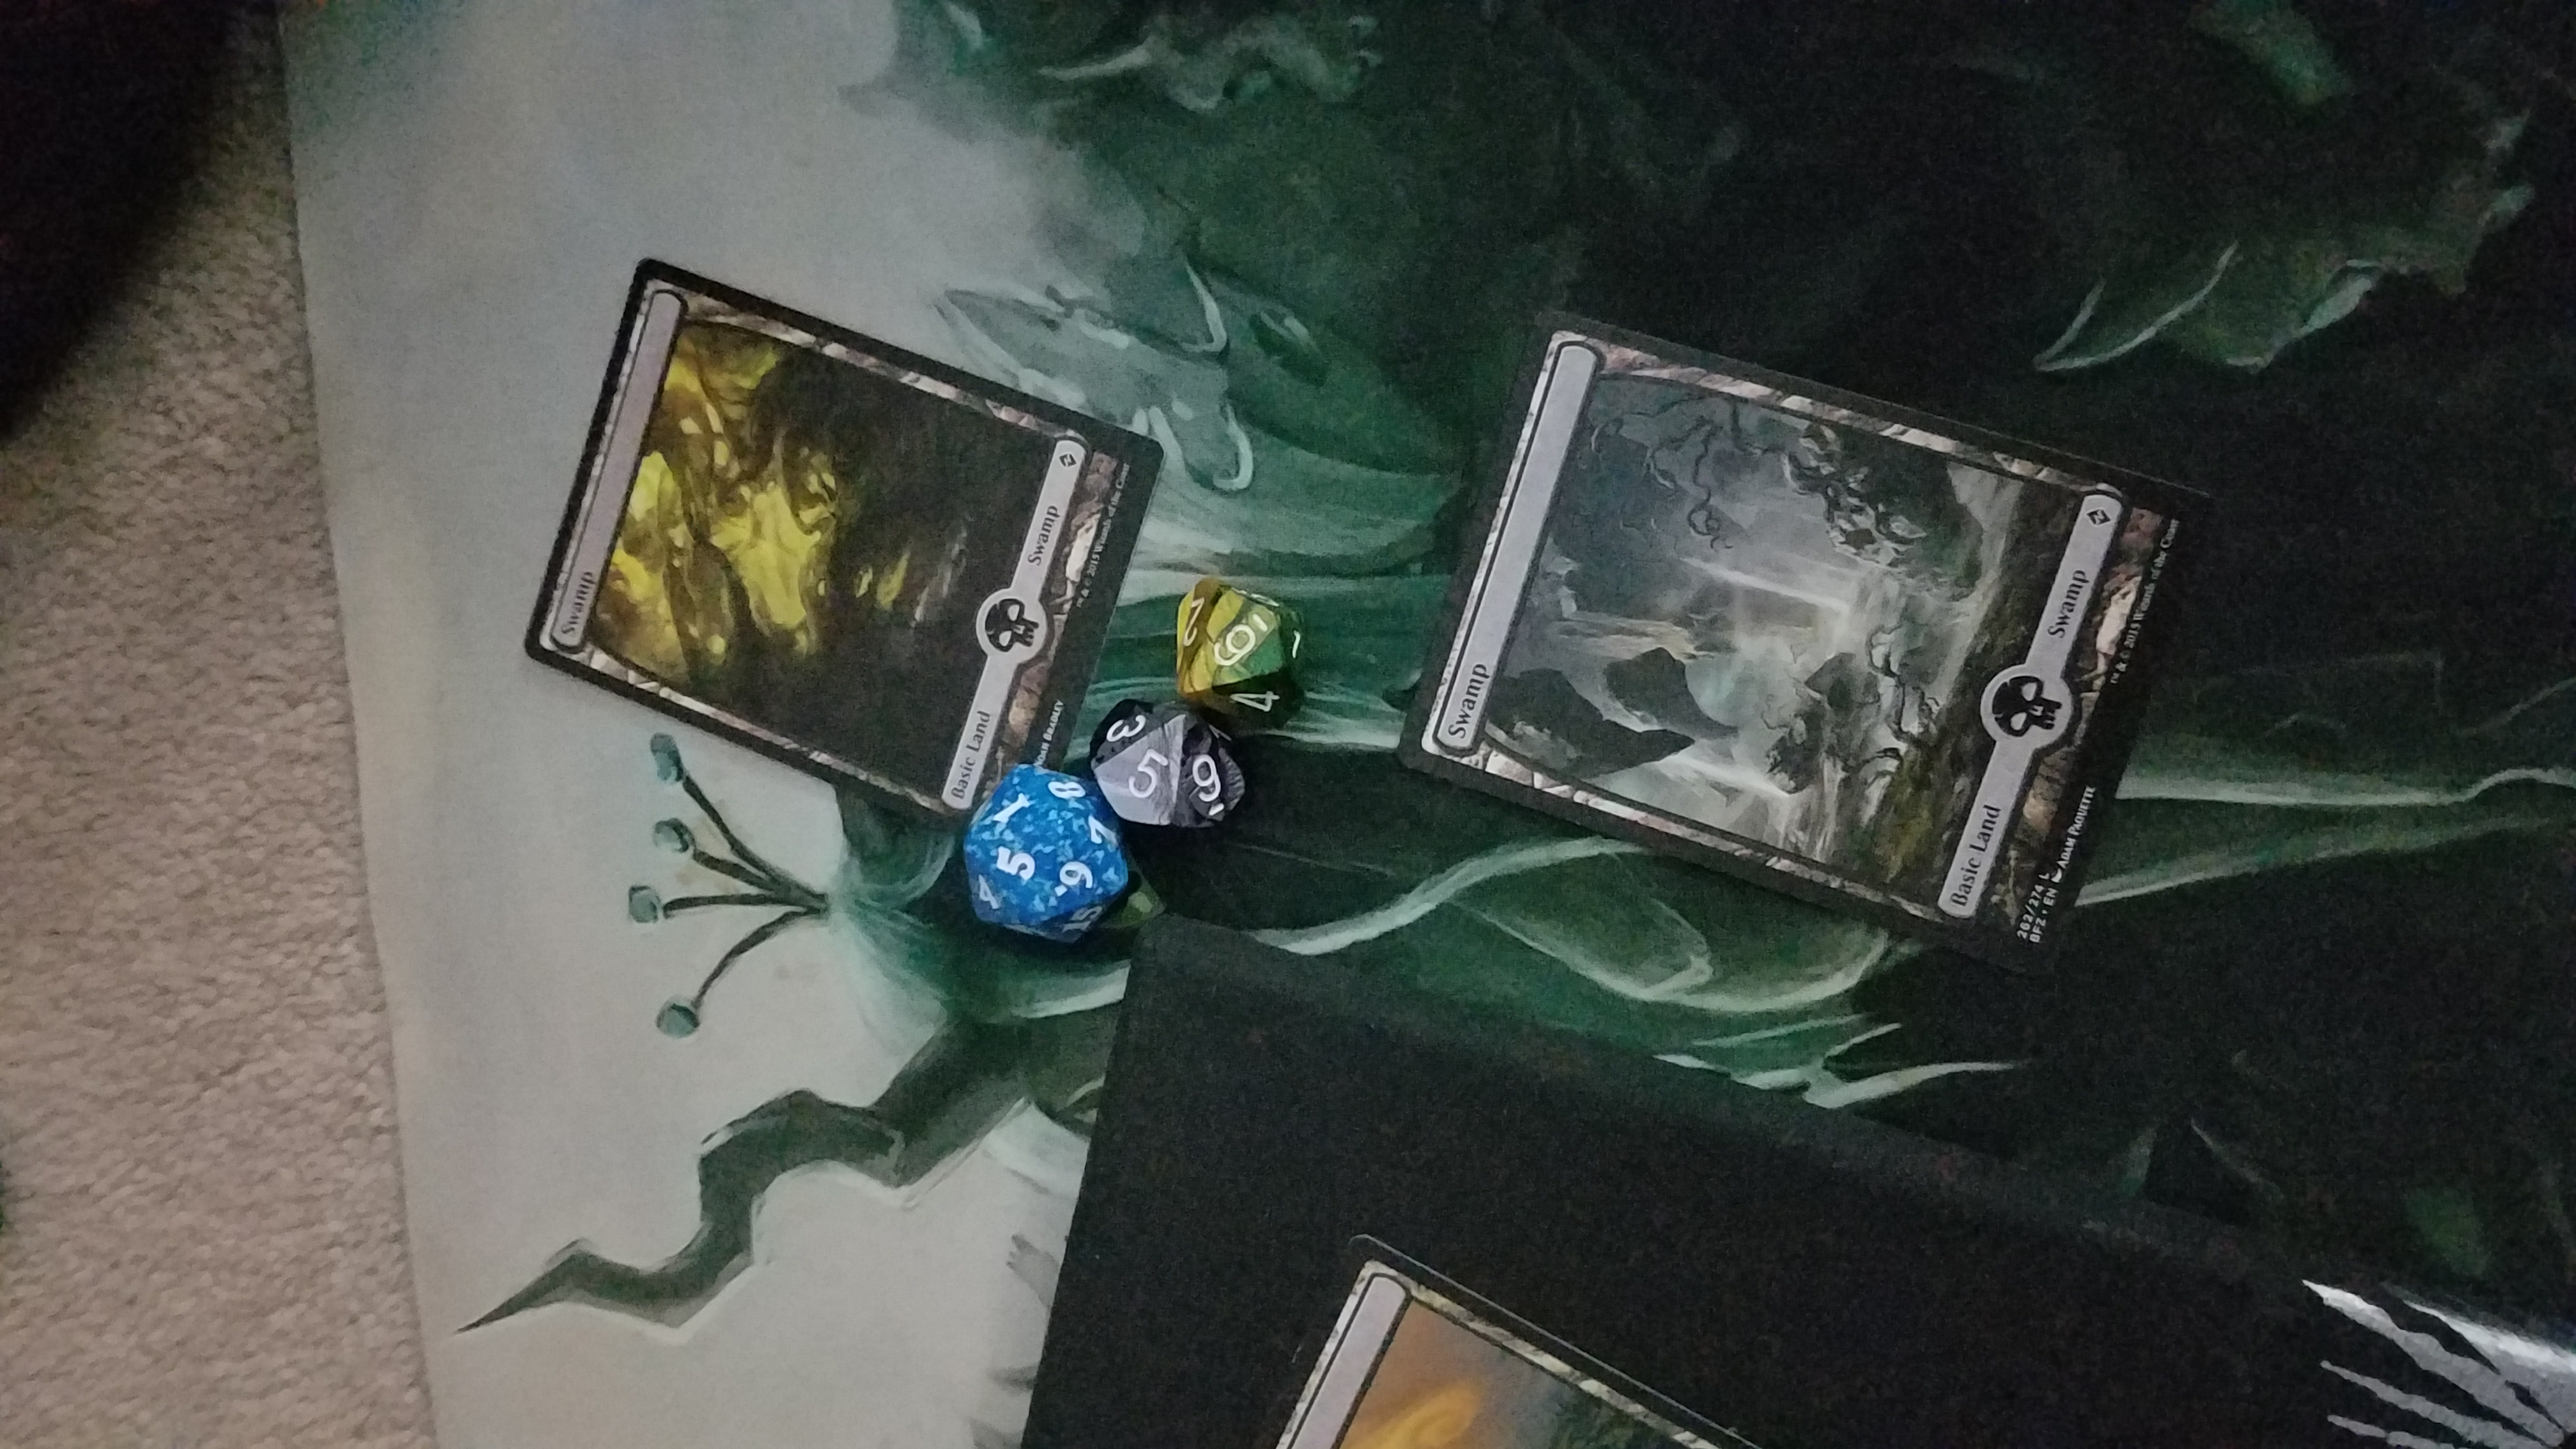Card: (1412, 299, 2245, 1007), (504, 258, 1168, 846)
